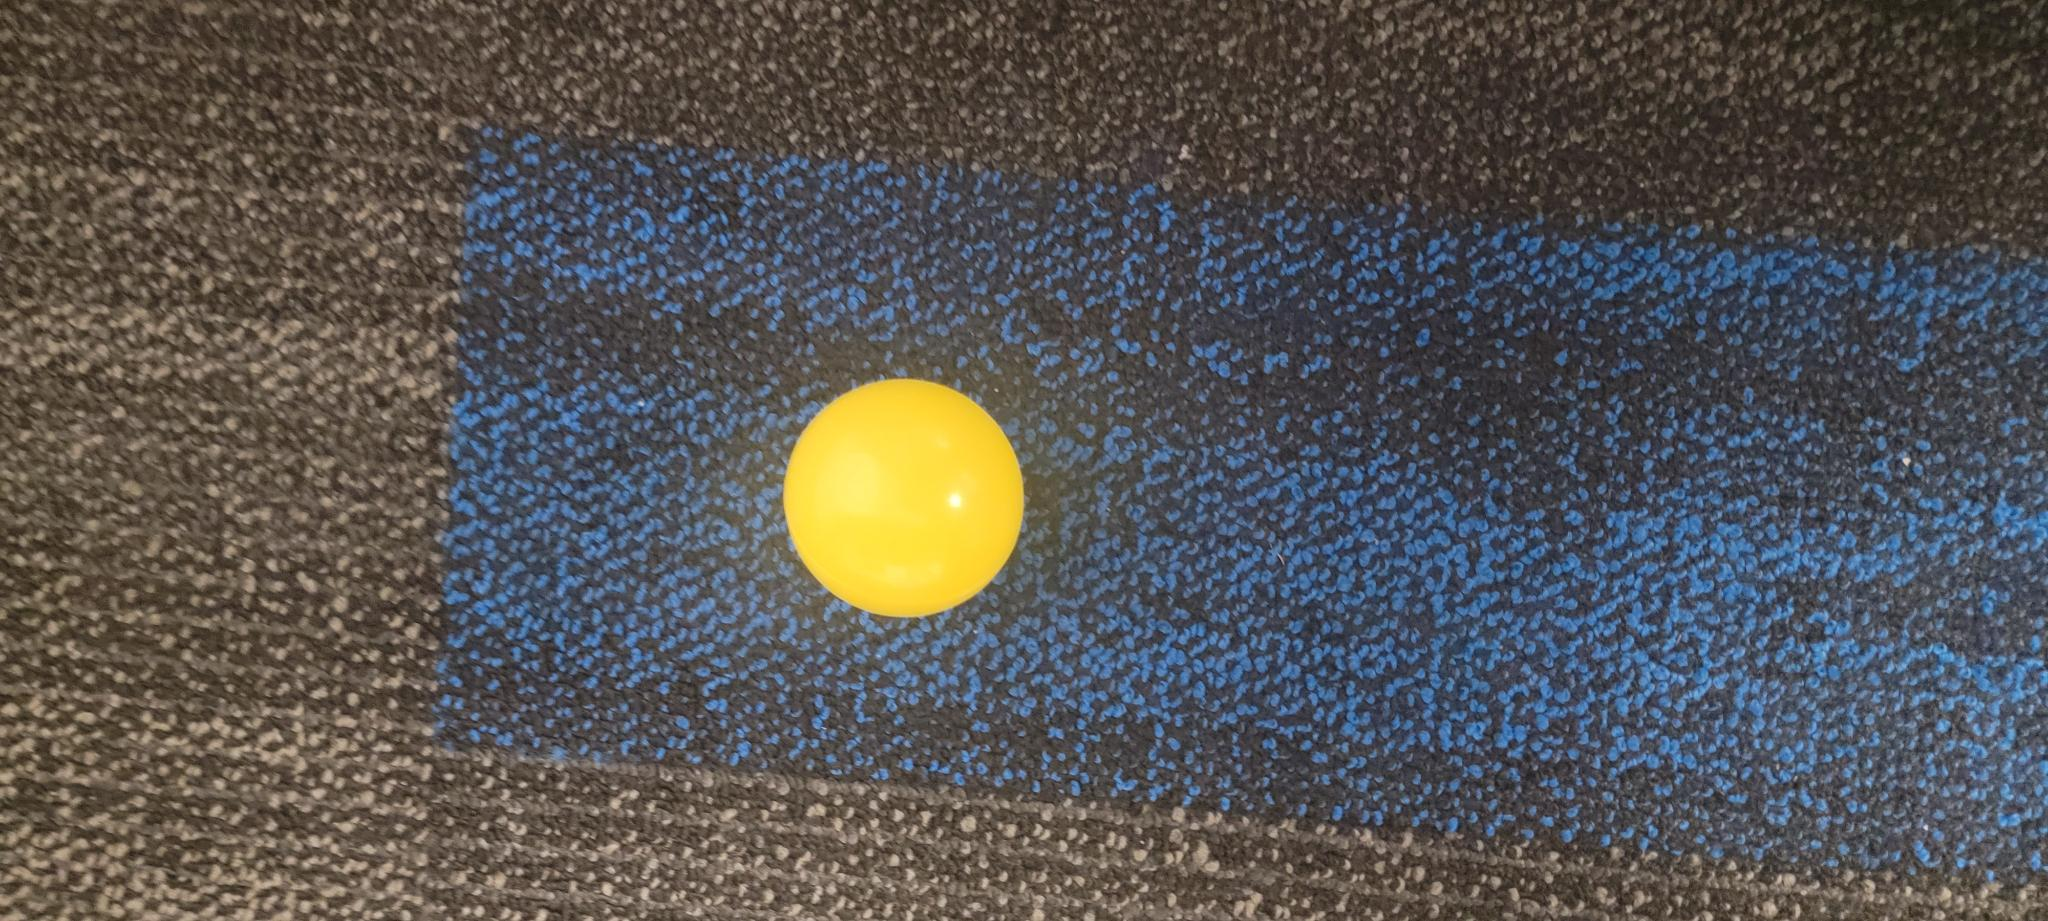Yellow-Ball: (302, 781, 545, 921)
